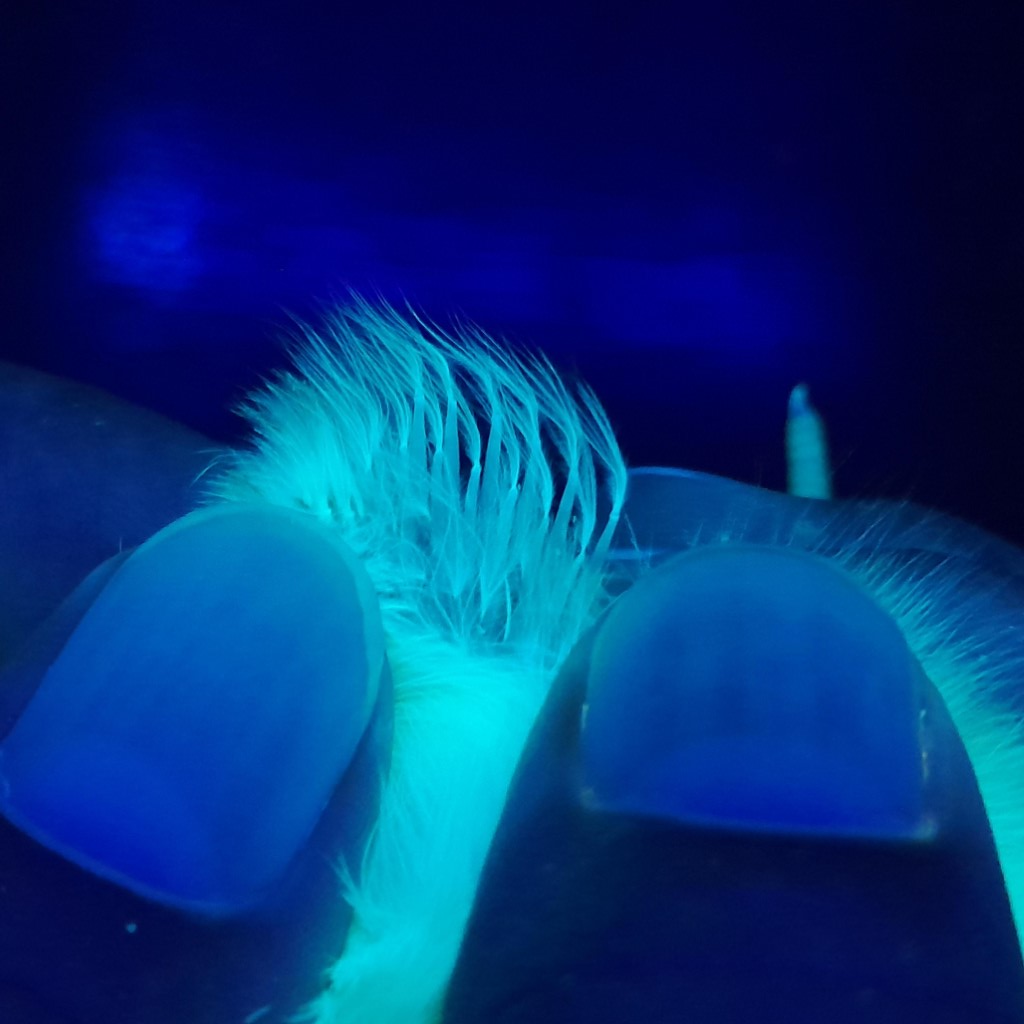female: (389, 371, 641, 675)
